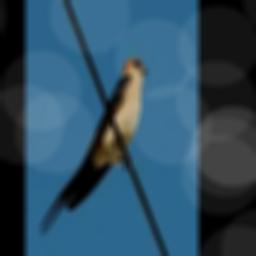Swallow: (39, 56, 148, 235)
